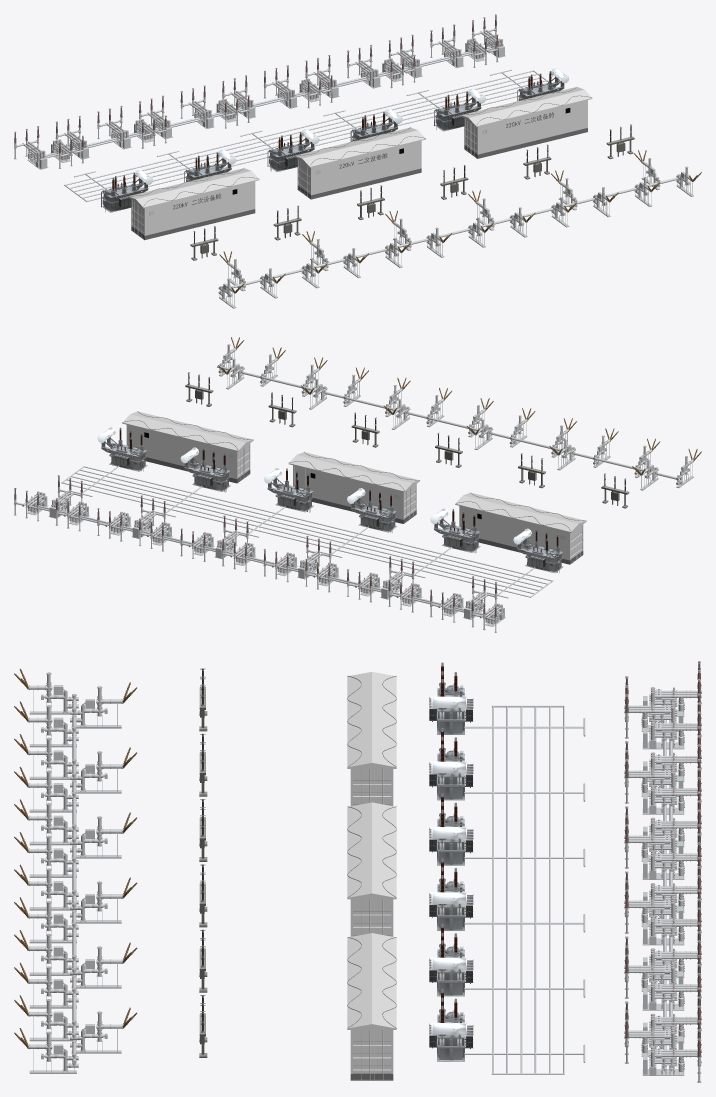
File: devices.glb
The picture shows the model from 3 angles, top to bottom: view 1: azimuth 30°, elevation 25°; view 2: azimuth 150°, elevation 25°; view 3: azimuth 270°, elevation 25°; orthographic projection. The views are drawn at different scales.
Parts seen in each view (by area): view 1: Obj3d66-1032738-6449-453, Obj3d66-1032738-6449-453.001, Obj3d66-1032738-6449-453.002, Obj3d66-1032738-6447-250, Obj3d66-1032738-6447-250.001, Obj3d66-1032738-6447-250.002, object 1, Obj3d66-1003450-1690-386, Obj3d66-1032738-6403-526.020, object 7, object 13, Obj3d66-1032738-6403-526.012 (+9 smaller); view 2: Obj3d66-1032738-6428-814.002, Obj3d66-1032738-6428-814, Obj3d66-1032738-6428-814.001, Obj3d66-1032738-6447-250.001, Obj3d66-1032738-6447-250, Obj3d66-1032738-6447-250.002, object 1, Obj3d66-1032738-6403-526.020, object 7, object 4, object 13, object 16 (+8 smaller); view 3: Obj3d66-1032738-6447-250.001, Obj3d66-1032738-6447-250, Obj3d66-1032738-6447-250.002, object 1, object 16, object 13, object 4, object 7, object 10, Obj3d66-1032738-6403-526.020, Obj3d66-1032738-6409-920.002, Obj3d66-1032738-6409-920 (+9 smaller).
Part boxes in pixels (bbox=[...]): Obj3d66-1032738-6449-453: bbox=[144, 181, 255, 235]; Obj3d66-1032738-6449-453.001: bbox=[311, 140, 421, 195]; Obj3d66-1032738-6449-453.002: bbox=[477, 100, 587, 154]; Obj3d66-1032738-6447-250: bbox=[128, 168, 259, 208]; Obj3d66-1032738-6447-250.001: bbox=[294, 127, 425, 167]; Obj3d66-1032738-6447-250.002: bbox=[461, 87, 592, 127]; object 1: bbox=[101, 169, 152, 212]; Obj3d66-1003450-1690-386: bbox=[30, 46, 494, 161]; Obj3d66-1032738-6403-526.020: bbox=[230, 177, 678, 288]; object 7: bbox=[267, 132, 314, 171]; object 13: bbox=[434, 91, 481, 131]; Obj3d66-1032738-6403-526.012: bbox=[65, 70, 533, 185]; Obj3d66-1032738-6428-814.002: bbox=[126, 425, 237, 478]; Obj3d66-1032738-6428-814: bbox=[459, 506, 569, 560]; Obj3d66-1032738-6428-814.001: bbox=[293, 465, 403, 519]; Obj3d66-1032738-6447-250.001: bbox=[288, 452, 419, 492]; Obj3d66-1032738-6447-250: bbox=[455, 492, 586, 532]; Obj3d66-1032738-6447-250.002: bbox=[122, 411, 253, 451]; object 1: bbox=[513, 528, 563, 572]; Obj3d66-1032738-6403-526.020: bbox=[217, 365, 676, 479]; object 7: bbox=[351, 488, 397, 532]; object 4: bbox=[434, 509, 480, 553]; object 13: bbox=[184, 448, 230, 492]; object 16: bbox=[101, 427, 147, 471]; Obj3d66-1032738-6447-250.001: bbox=[347, 802, 396, 899]; Obj3d66-1032738-6447-250: bbox=[347, 672, 396, 768]; Obj3d66-1032738-6447-250.002: bbox=[347, 933, 396, 1029]; object 1: bbox=[429, 662, 473, 734]; object 16: bbox=[429, 989, 473, 1061]; object 13: bbox=[429, 923, 473, 996]; object 4: bbox=[429, 728, 473, 800]; object 7: bbox=[429, 793, 473, 865]; object 10: bbox=[429, 858, 473, 930]; Obj3d66-1032738-6403-526.020: bbox=[72, 699, 76, 1063]; Obj3d66-1032738-6409-920.002: bbox=[353, 1030, 391, 1073]; Obj3d66-1032738-6409-920: bbox=[353, 769, 391, 804].
Bounding box in the file's own units: 69.62 × 5.78 × 53.42.
Materials: 29 (6 with a texture image).
